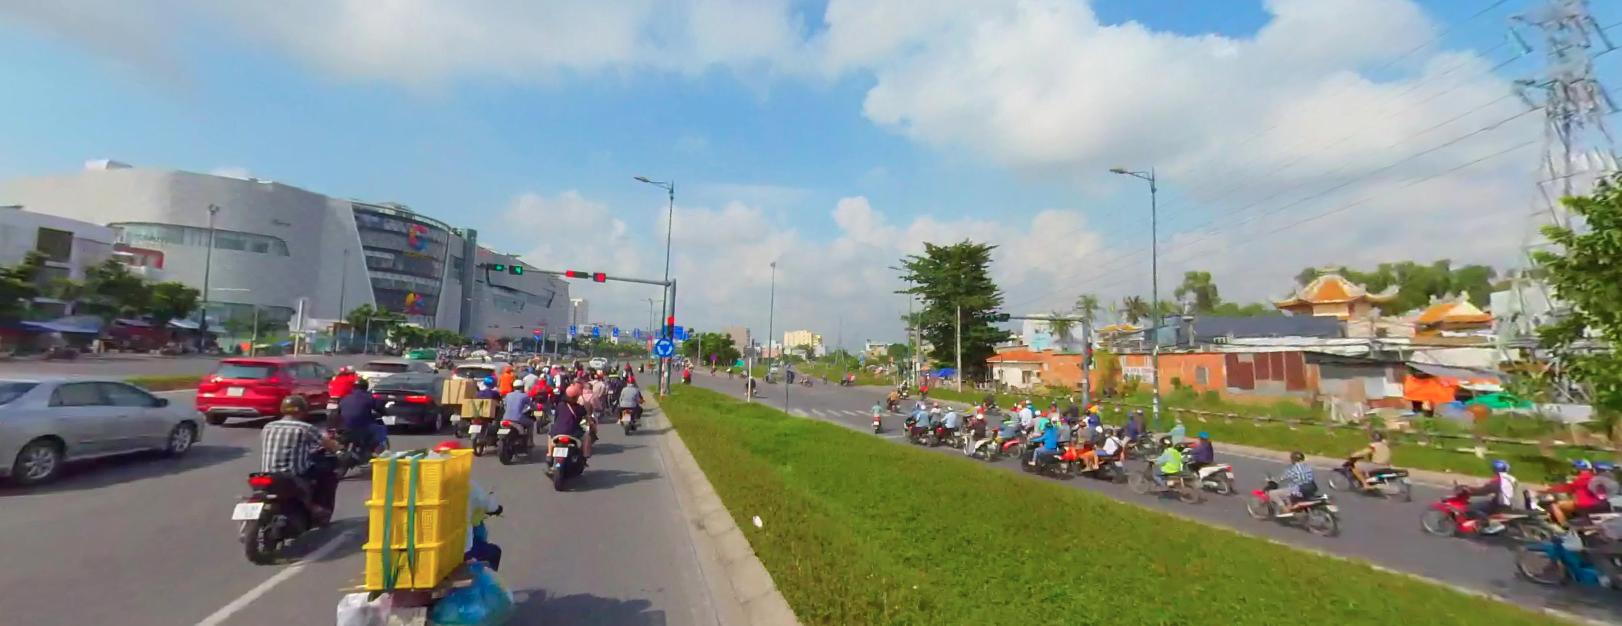Cam dung va do: (710, 352, 717, 358), (645, 333, 651, 338)
Hieu lenh: (654, 337, 674, 355)
